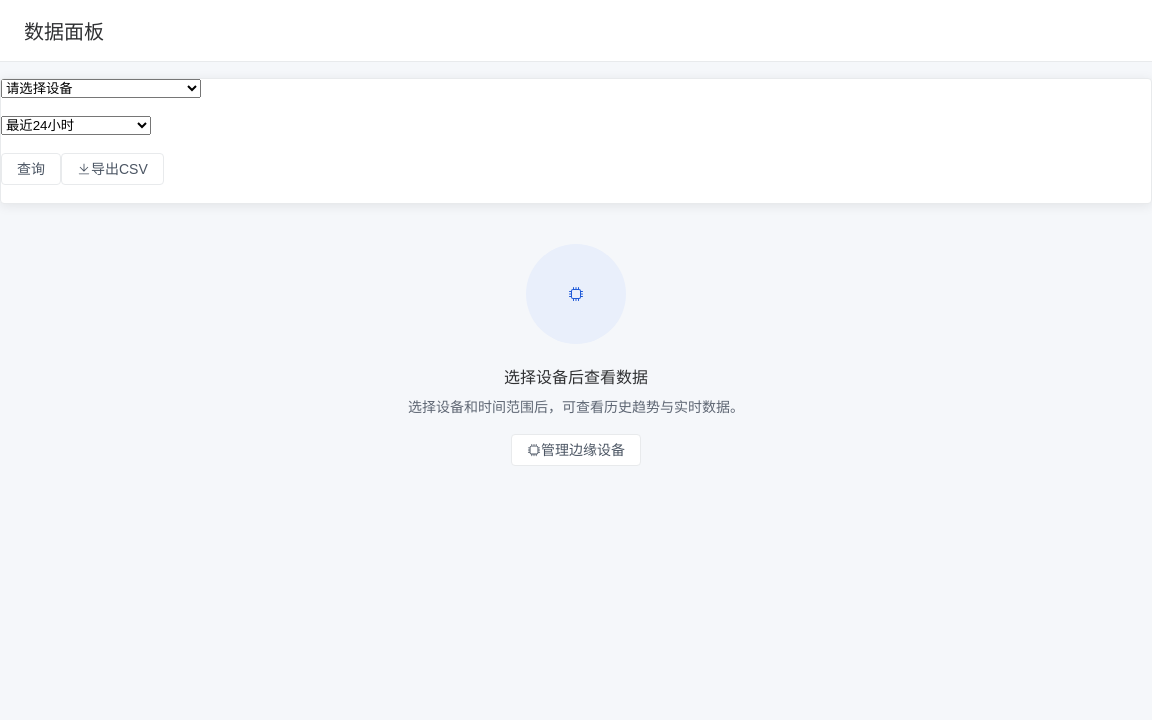
Test case: DataPanel 历史表渲染 —— 真实行不得再显示「—」 › 统计卡不再因读不到字段而整组消失：rainfall=0.5 时渲染出「最新雨量」卡
Select "设备 42" in the 1st dropdown at [101, 88], box top-left (1, 79), bottom-right (201, 98)
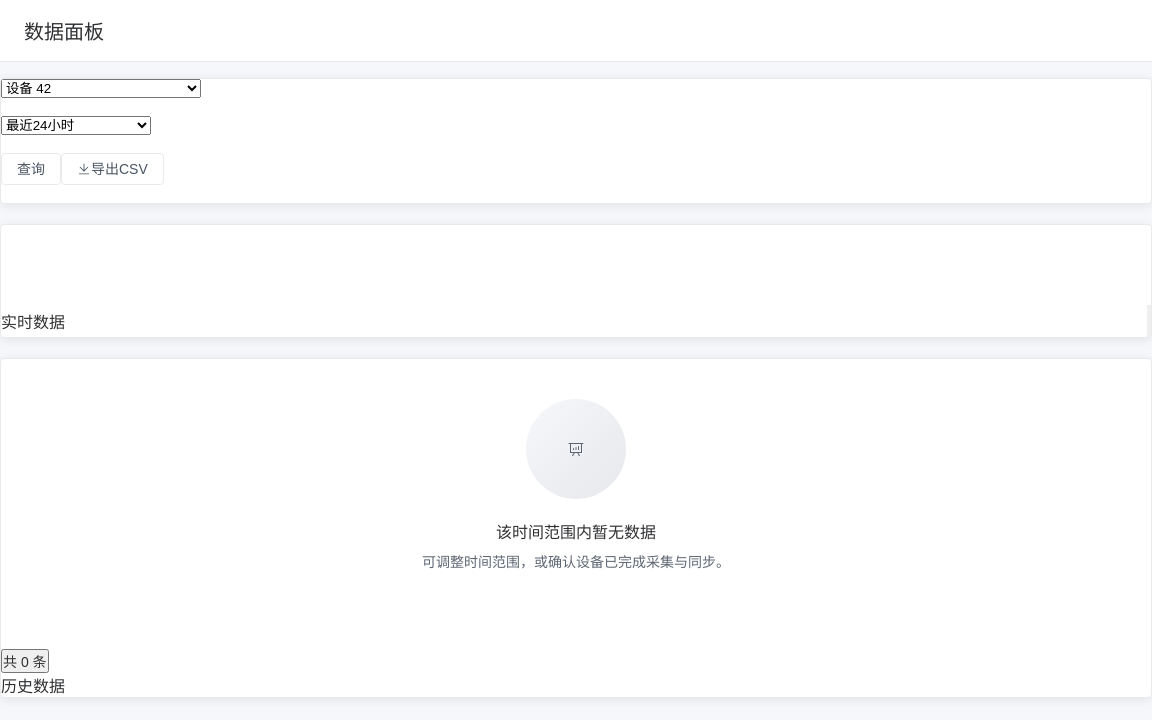
Click the button with test id "query" at [31, 169], box top-left (1, 153), bottom-right (61, 185)
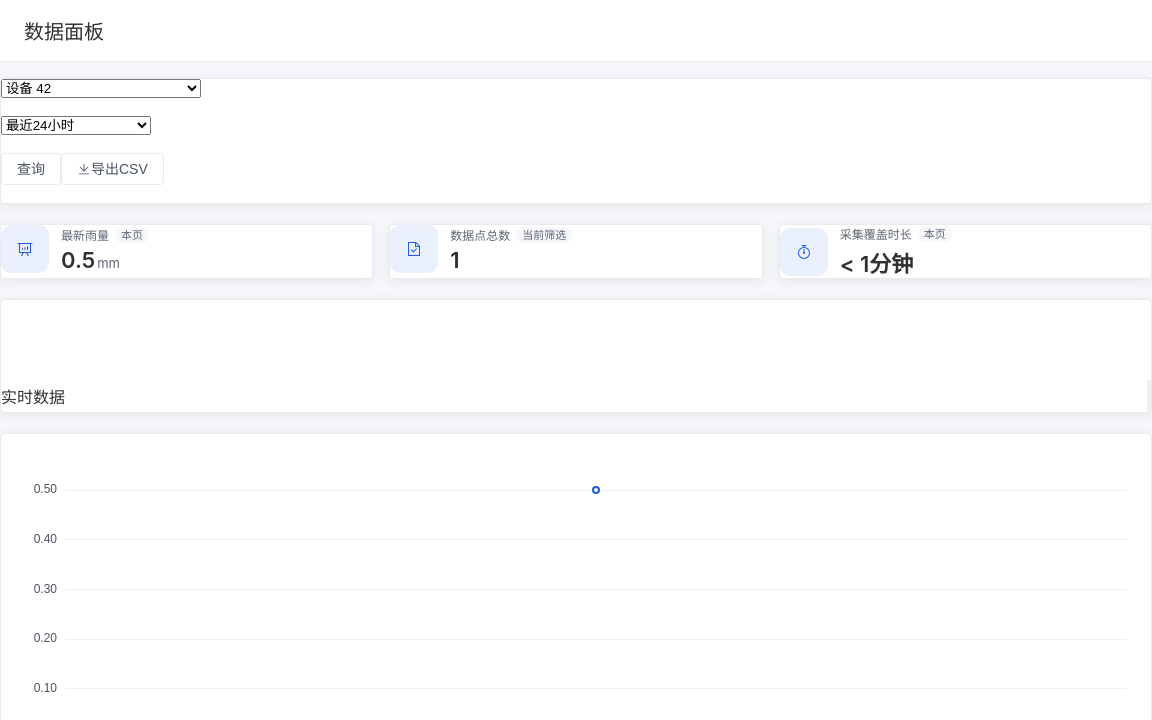
Expected: the element with class "stat-card" showing "最新雨量 本页 0.5mm" is shown, top-left (0, 224), bottom-right (373, 279)
Expected: the element with class "stat-value" shows "0.5", top-left (61, 246), bottom-right (95, 272)
Expected: the element with class "stat-value" shows "mm", top-left (97, 254), bottom-right (120, 270)
